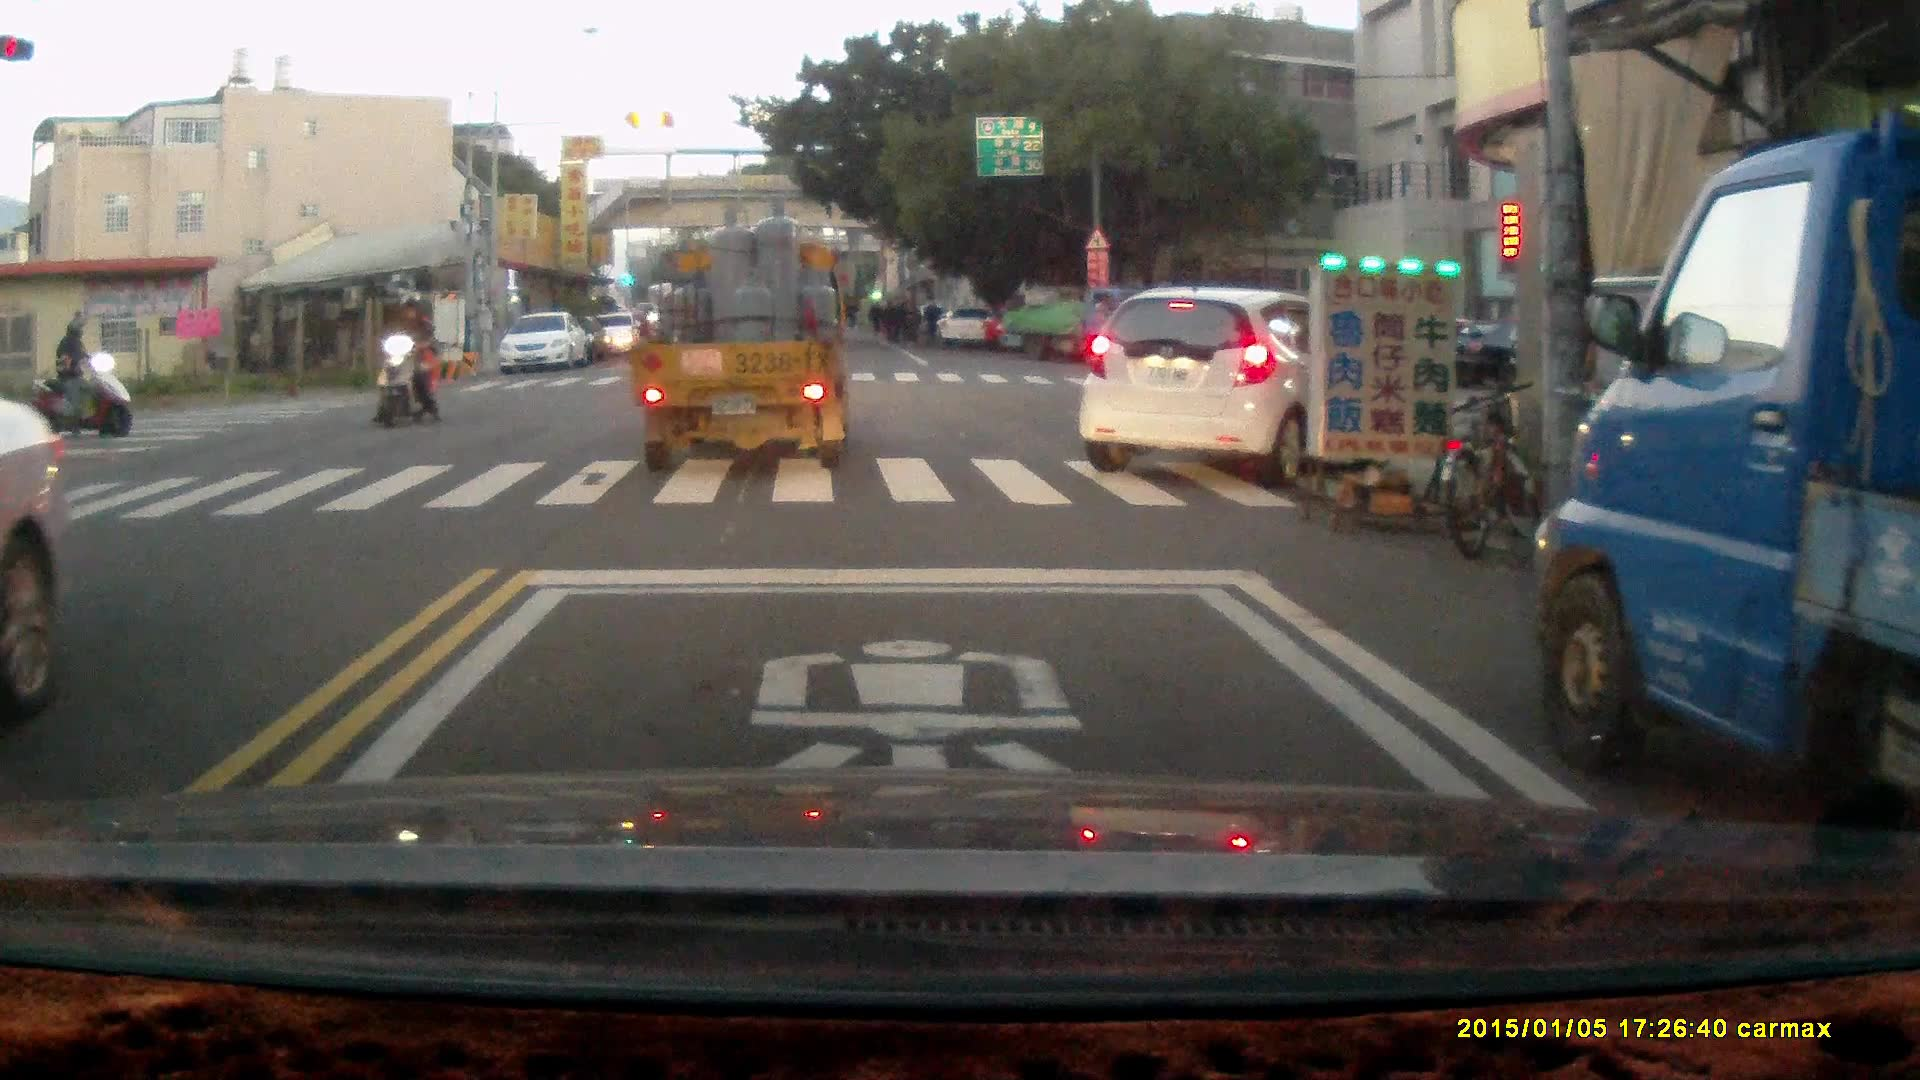rider: (30, 315, 130, 437), (371, 297, 440, 431)
vehicle: (1537, 132, 1920, 813), (629, 230, 852, 475), (1079, 289, 1369, 469), (1002, 284, 1170, 367), (502, 312, 588, 379), (592, 311, 642, 360)
